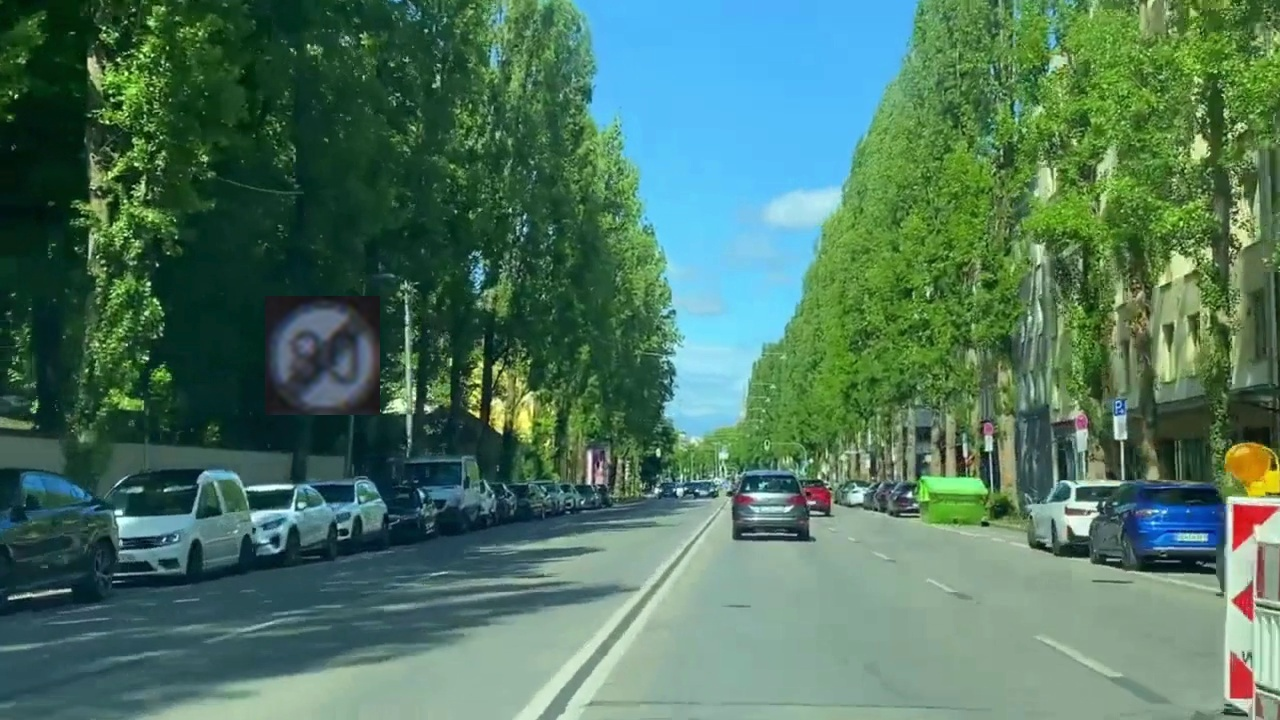End Speed 80: (265, 296, 380, 415)
